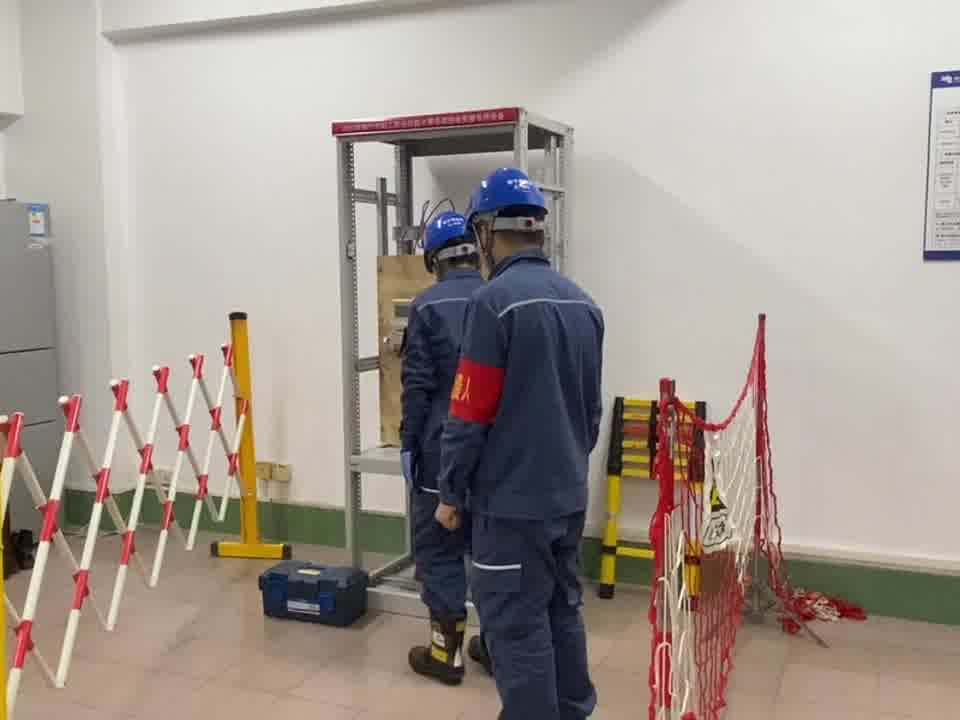badge: (449, 357, 507, 426)
downsuit: (464, 522, 600, 720), (408, 486, 484, 618)
glove: (397, 441, 422, 487)
halt: (466, 166, 553, 261), (421, 211, 478, 275)
hand: (430, 499, 463, 528)
inear: (472, 220, 502, 266)
person: (431, 163, 614, 720), (401, 205, 499, 687)
shoe: (409, 607, 473, 689)
upsuit: (431, 256, 606, 512), (397, 267, 484, 500)
